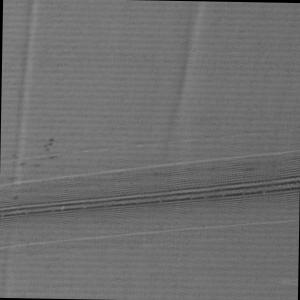Stain: (4, 132, 62, 202)
Wrinkle: (3, 1, 51, 191), (159, 1, 212, 161)
